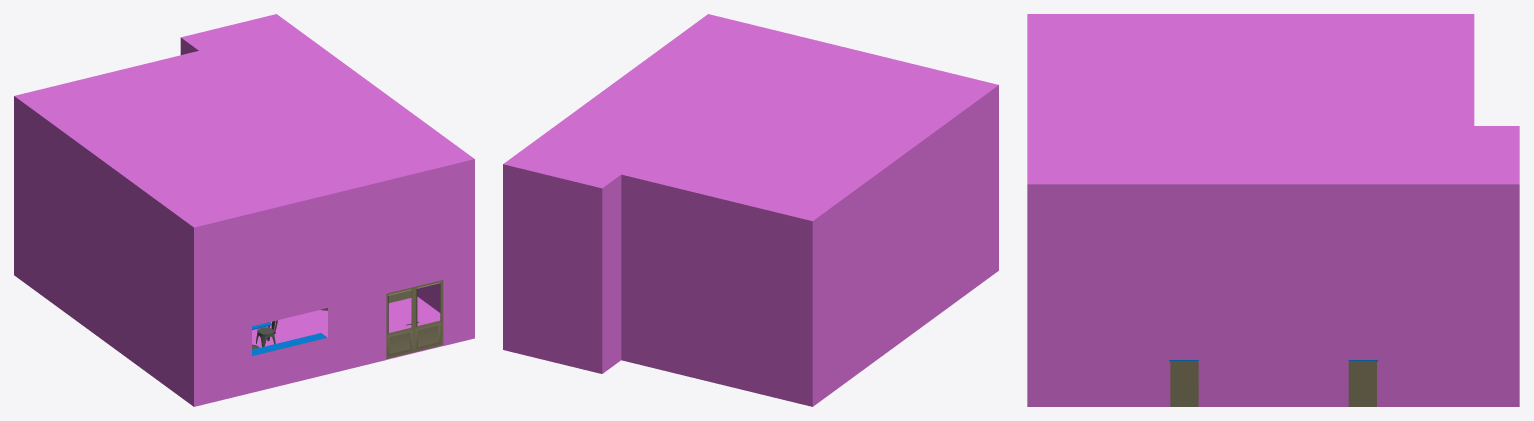
Rendered from cafeUpdate.fbx.
3 views of the same model, side by side, from view 1: azimuth 30°, elevation 25°; view 2: azimuth 150°, elevation 25°; view 3: azimuth 270°, elevation 25° (orthographic). The views are drawn at different scales.
Visible parts, largest first — view 1: ggCafe_Ceiling01, ggCafe_wallFront01, ggCafe_wallLeft01, ggCafe_Floor01, ggCafe_entranceDoor02, ggCafe_entranceDoor01, ggCafe_windowCounter01, ggCafe_wallRight01; view 2: ggCafe_wallBack01, ggCafe_Ceiling01, ggCafe_wallLeft01; view 3: ggCafe_wallRight01, ggCafe_Ceiling01, ggCafe_Counter_c01, ggCafe_Counter_c03.
Boxes of the visible parts, x1=… form: ggCafe_Ceiling01: x1=14, y1=14, x2=474, y2=227; ggCafe_wallFront01: x1=194, y1=159, x2=474, y2=406; ggCafe_wallLeft01: x1=14, y1=96, x2=193, y2=406; ggCafe_Floor01: x1=252, y1=296, x2=443, y2=359; ggCafe_entranceDoor02: x1=414, y1=280, x2=442, y2=352; ggCafe_entranceDoor01: x1=386, y1=287, x2=413, y2=359; ggCafe_windowCounter01: x1=252, y1=333, x2=327, y2=355; ggCafe_wallRight01: x1=417, y1=283, x2=440, y2=312; ggCafe_wallBack01: x1=503, y1=164, x2=812, y2=406; ggCafe_Ceiling01: x1=503, y1=14, x2=998, y2=221; ggCafe_wallLeft01: x1=812, y1=85, x2=998, y2=406; ggCafe_wallRight01: x1=1027, y1=184, x2=1519, y2=406; ggCafe_Ceiling01: x1=1027, y1=14, x2=1519, y2=184; ggCafe_Counter_c01: x1=1170, y1=362, x2=1198, y2=406; ggCafe_Counter_c03: x1=1348, y1=362, x2=1376, y2=406.
Bounding box in the file's own units: 9 × 5.49 × 11.
